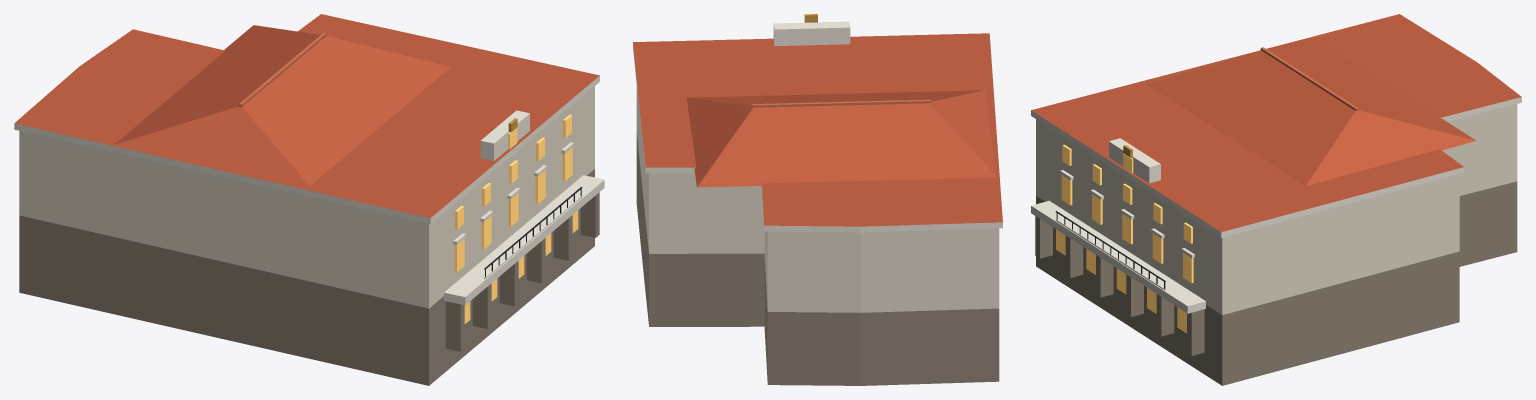
3 views of the same model, side by side, from view 1: azimuth 30°, elevation 25°; view 2: azimuth 150°, elevation 25°; view 3: azimuth 270°, elevation 25° (orthographic). The views are drawn at different scales.
Parts seen in each view (by area): view 1: w22358108_AyuntamientoCaceres; view 2: w22358108_AyuntamientoCaceres; view 3: w22358108_AyuntamientoCaceres.
Boxes of the visible parts, x1,y1,x2,y2 form: w22358108_AyuntamientoCaceres: (14, 14, 604, 385); w22358108_AyuntamientoCaceres: (633, 14, 1002, 385); w22358108_AyuntamientoCaceres: (1031, 14, 1521, 385).
Size of the model in its own units: 44.94 by 18.21 by 42.71.
Materials: 2 (2 with a texture image).
